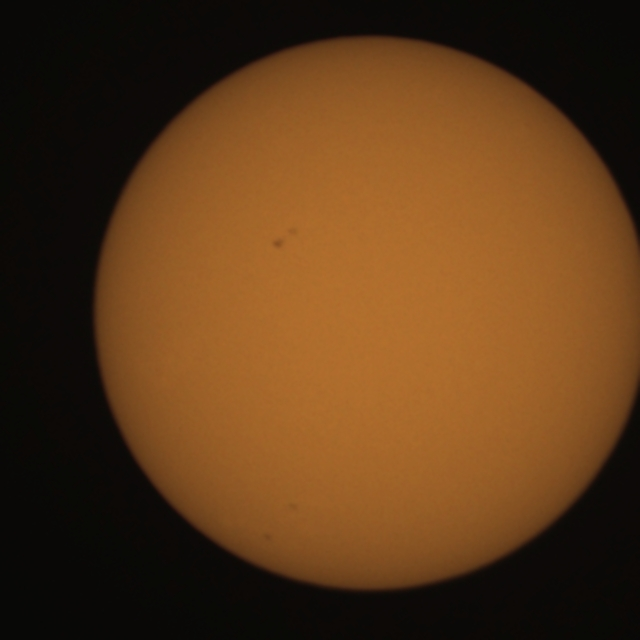sunspot: (270, 226, 300, 251), (270, 235, 287, 252)
